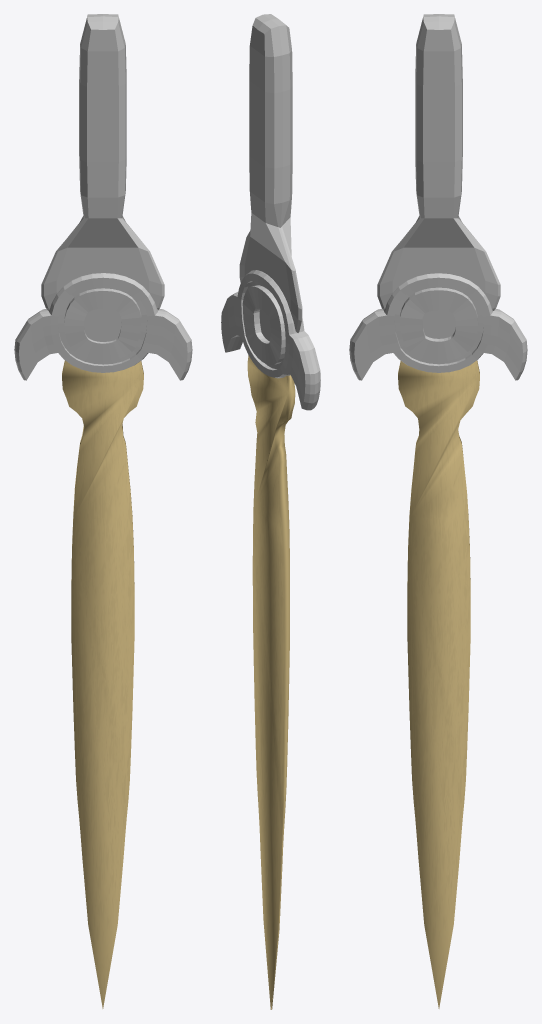
Rendered from kılınç achilles.fbx.
The picture shows the model from 3 angles, left to right: view 1: azimuth 90°, elevation 25°; view 2: azimuth 210°, elevation 25°; view 3: azimuth 270°, elevation 25°; orthographic projection.
Visible parts, largest first — view 1: Plane, Cube.001, Cube; view 2: Plane, Cube.001, Cube; view 3: Plane, Cube.001, Cube.
Boxes of the visible parts, x1,y1,x2,y2 form: Plane: (62,360,143,1008); Cube.001: (41,14,164,310); Cube: (14,273,192,380); Plane: (247,355,295,1009); Cube.001: (239,14,302,332); Cube: (221,270,320,410); Plane: (398,360,479,1008); Cube.001: (377,14,500,310); Cube: (349,273,527,380).
Bounding box in the file's own units: 205 × 7034 × 1144.
